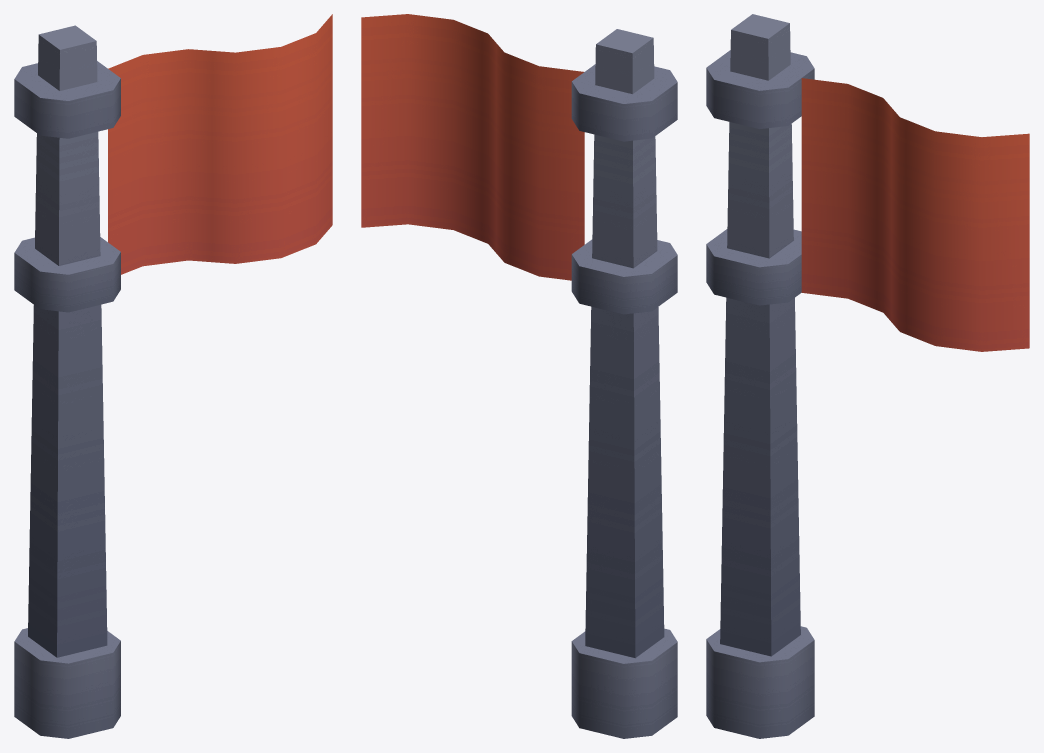
The model's file is flag_1.glb.
3 renders of one model, left to right at view 1: azimuth 30°, elevation 25°; view 2: azimuth 150°, elevation 25°; view 3: azimuth 330°, elevation 25°, orthographic. The views are drawn at different scales.
Visible parts, largest first — view 1: flag; view 2: flag; view 3: flag.
Part boxes in pixels (<box>): flag: <box>14,14,332,738</box>; flag: <box>361,14,677,738</box>; flag: <box>706,14,1029,738</box>.
Size of the model in its own units: 0.4235 by 0.9 by 0.112.
1 material, 1 textured.
